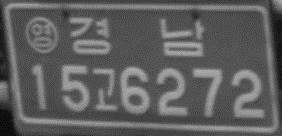1: (28, 62, 51, 113)
2: (230, 68, 267, 118), (155, 66, 188, 117)
5: (59, 62, 91, 112)
6: (118, 64, 151, 115)
7: (191, 66, 224, 118)
경남_D: (67, 14, 206, 60)
고: (90, 66, 119, 112)
영: (25, 15, 60, 54)
